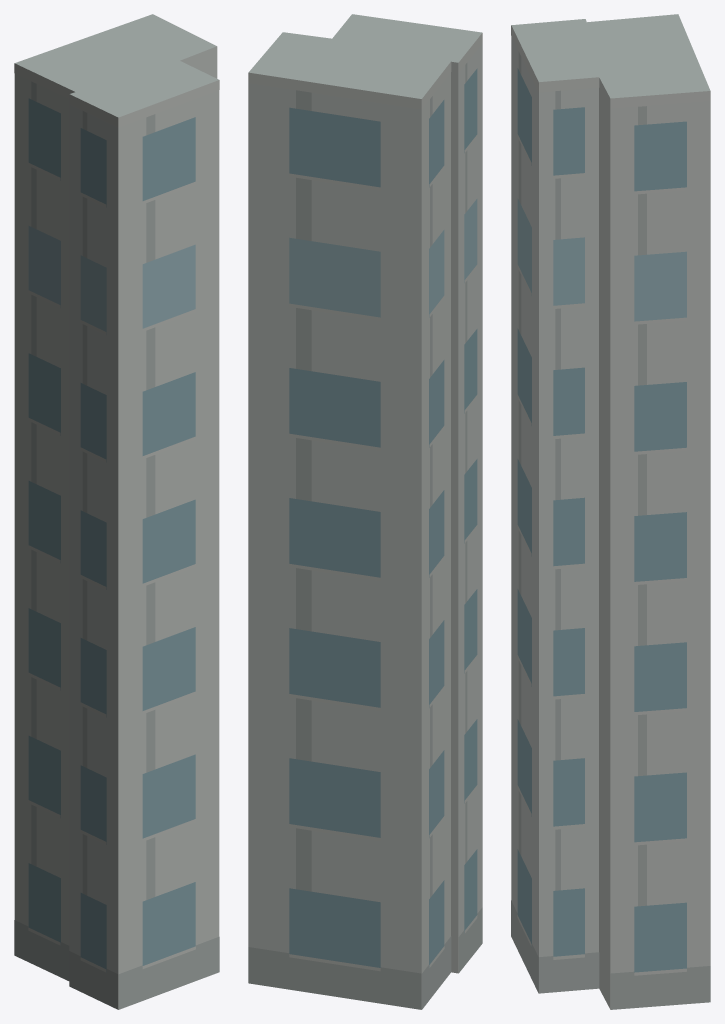
File: survey-upis-32461710.glb
3 renders of one model, left to right at view 1: azimuth 30°, elevation 25°; view 2: azimuth 150°, elevation 25°; view 3: azimuth 270°, elevation 25°, orthographic. The views are drawn at different scales.
Parts seen in each view (by area): view 1: survey-upis-32461710.tmp; view 2: survey-upis-32461710.tmp; view 3: survey-upis-32461710.tmp.
Part boxes in pixels (bbox=[...]): survey-upis-32461710.tmp: bbox=[14, 14, 219, 1009]; survey-upis-32461710.tmp: bbox=[248, 14, 482, 1009]; survey-upis-32461710.tmp: bbox=[511, 14, 710, 1009].
Bounding box in the file's own units: 4.25 × 21.35 × 4.24.
